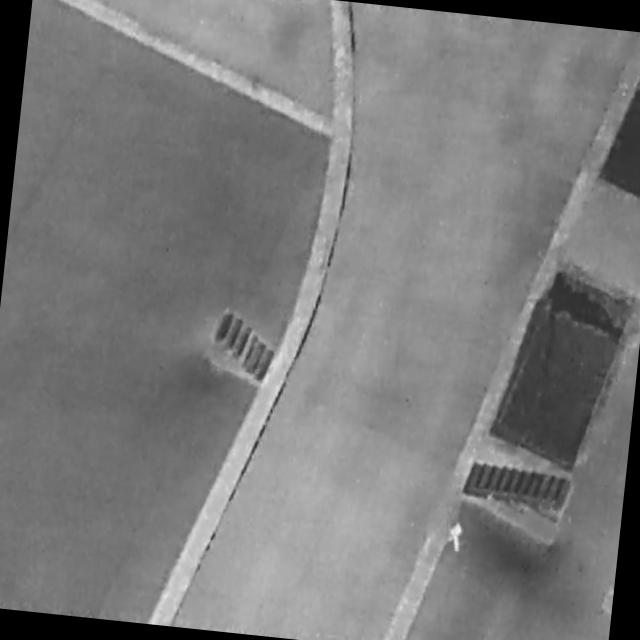person: (445, 519, 466, 555)
